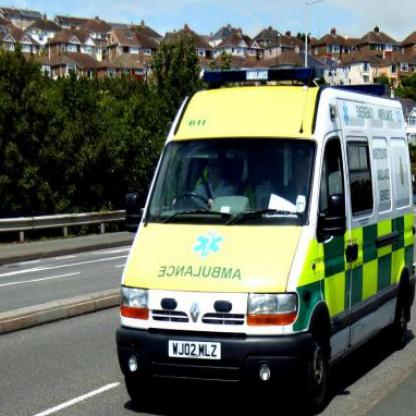truck: (118, 69, 415, 414)
